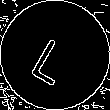L_NE: (29, 25, 81, 85)
